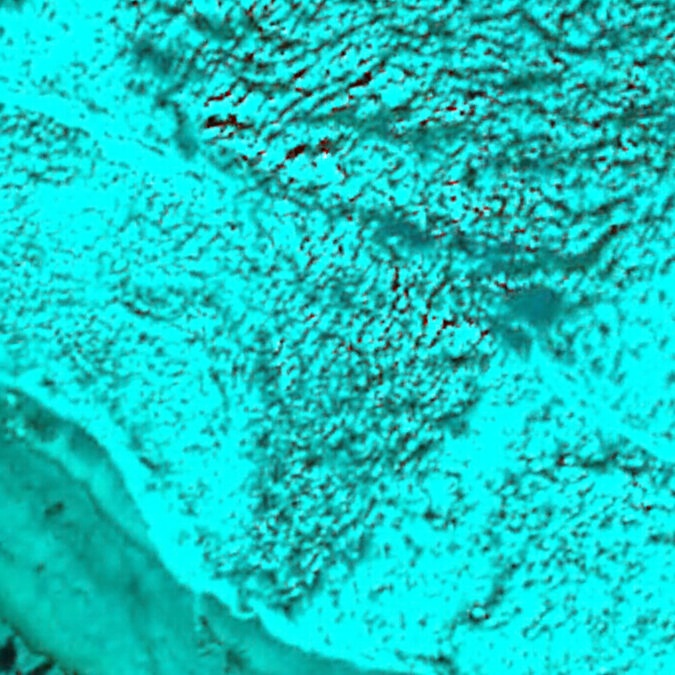rip_current: (236, 196, 580, 613)
